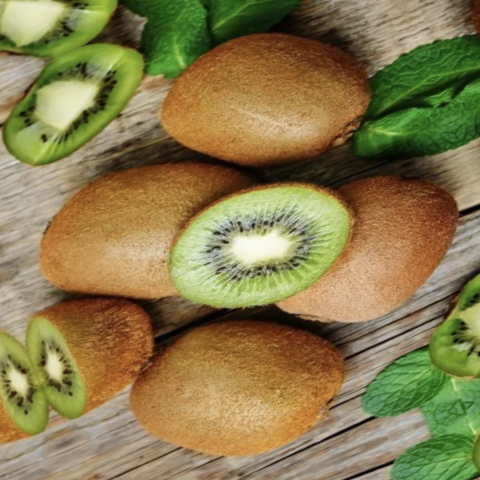kiwi: (1, 117, 296, 358), (212, 140, 480, 376), (106, 260, 377, 480), (126, 0, 406, 211)
